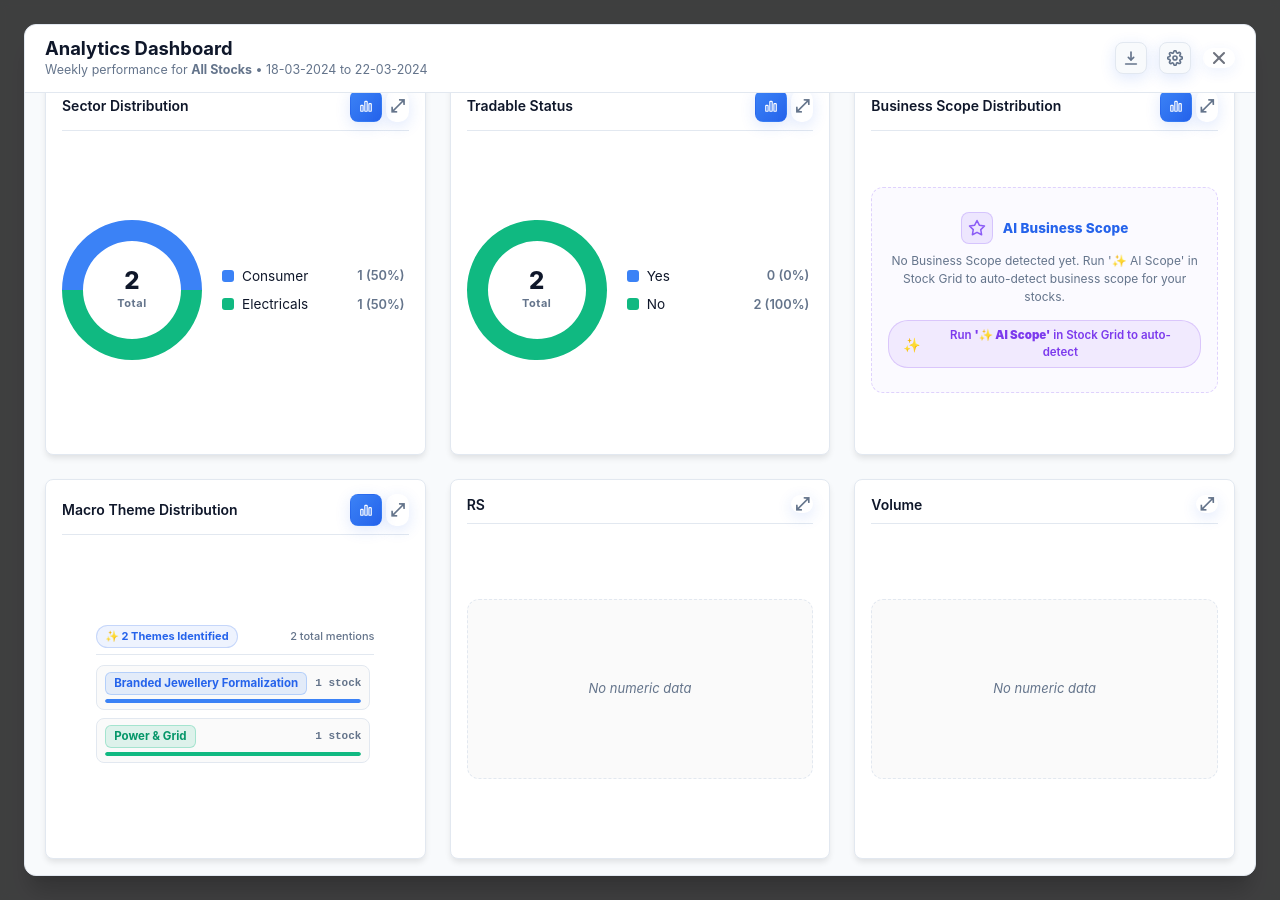
Test case: AnalyticsDashboard › supports searching by stock name and filtering by Roles in expanded view
(page scrolled)
// Expand Macro Theme Distribution
Click the button with class "expand-btn" next to "Macro Theme Distribution".
click(398, 510)  # box [386,494,409,526]
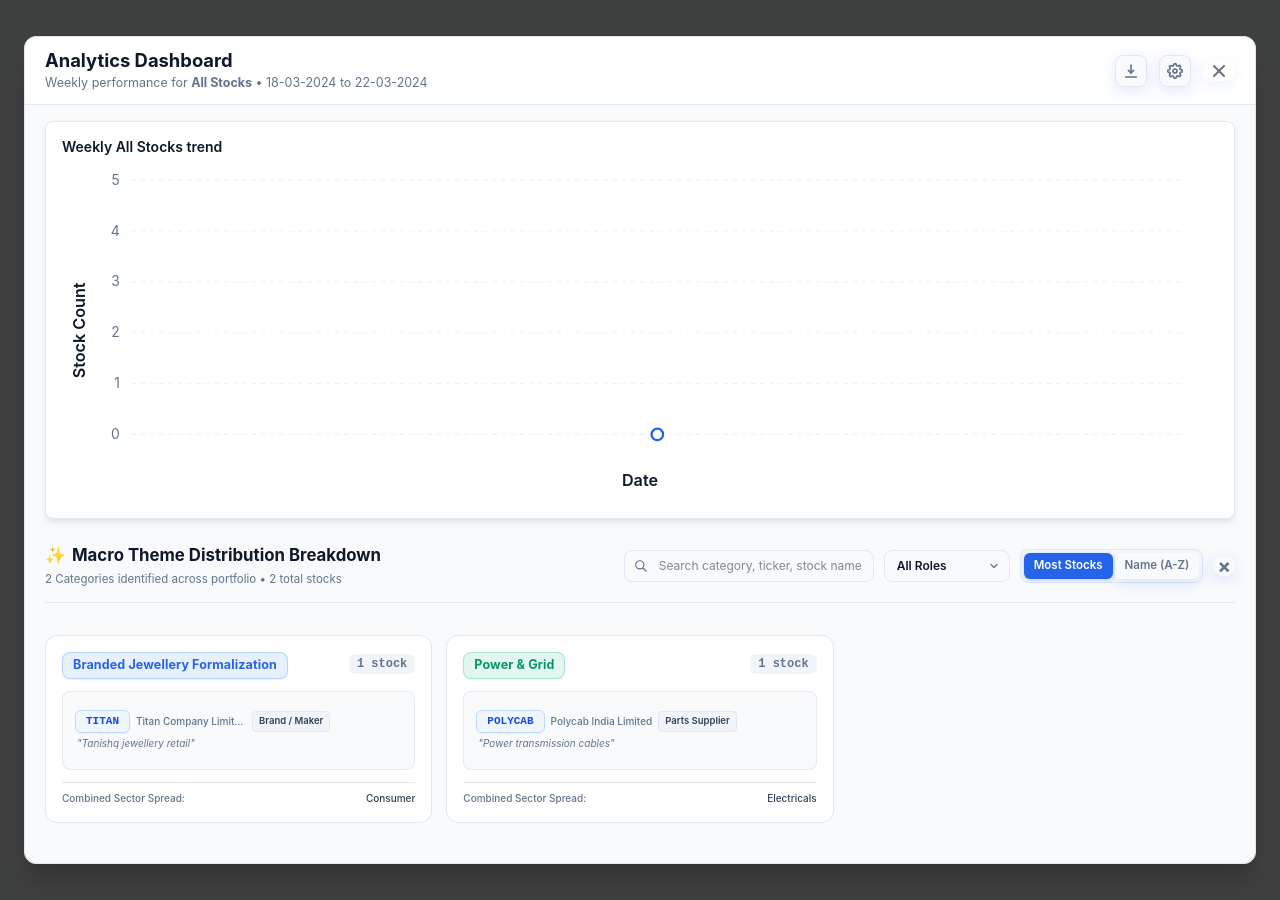
expect the field with placeholder "Search category, ticker, stock name..." is shown: met
expect the text "Titan Company Limited" is shown: met, box [136,714,246,729]
expect the text "Polycab India Limited" is shown: met, box [550,714,652,729]
// Test Search by company name "Titan Company"
Type "Titan Company" into the field with placeholder "Search category, ticker, stock name...".
click(749, 566); type("Titan Company")  # box [624,550,874,582]
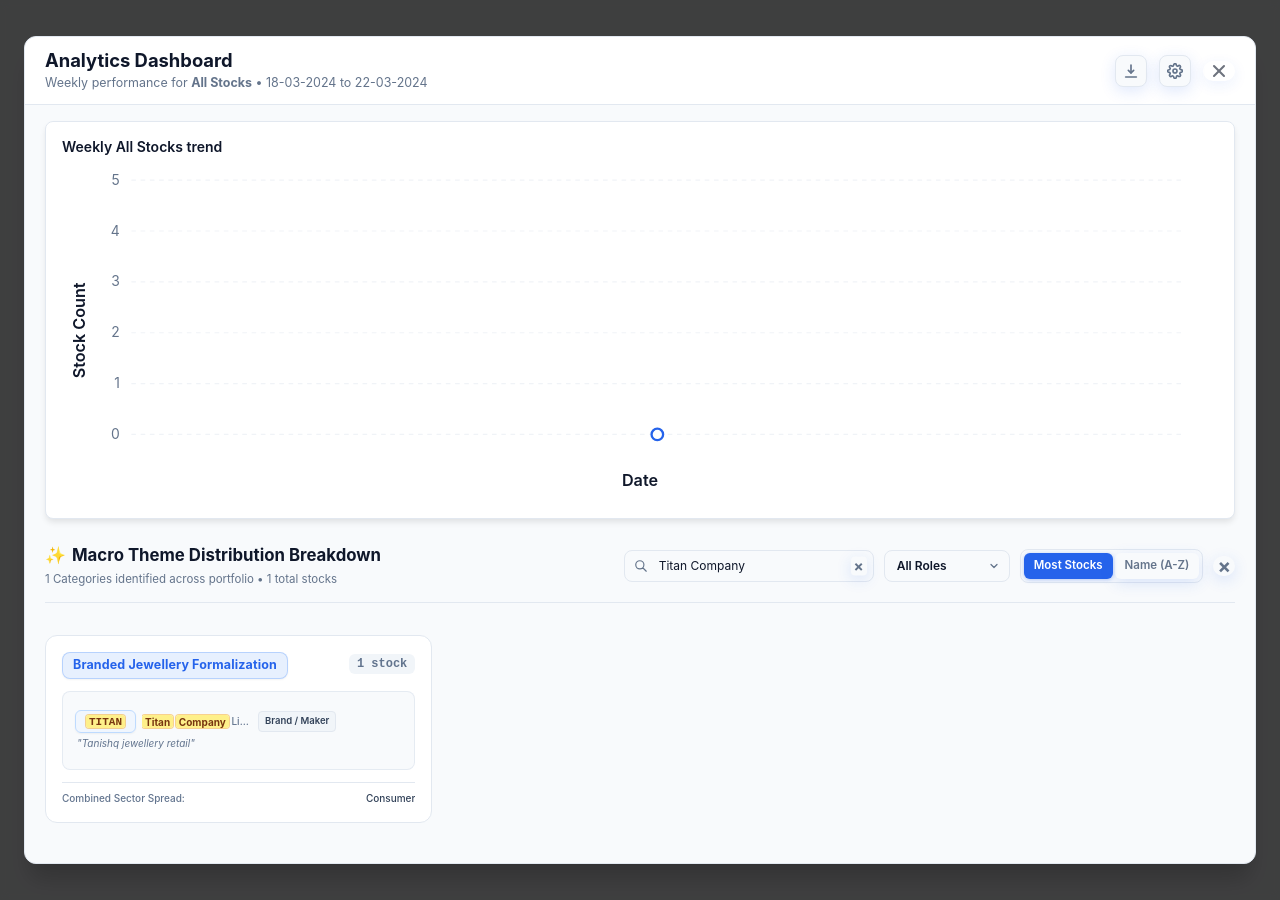
expect the element with class "ai-scope-exp-body" shows "TITAN": met, box [89,715,122,727]
expect the text with class "ai-scope-exp-body" no longer shows "POLYCAB": met
// Clear search
Clear the field with placeholder "Search category, ticker, stock name..." at (749,566), box [624,550,874,582]
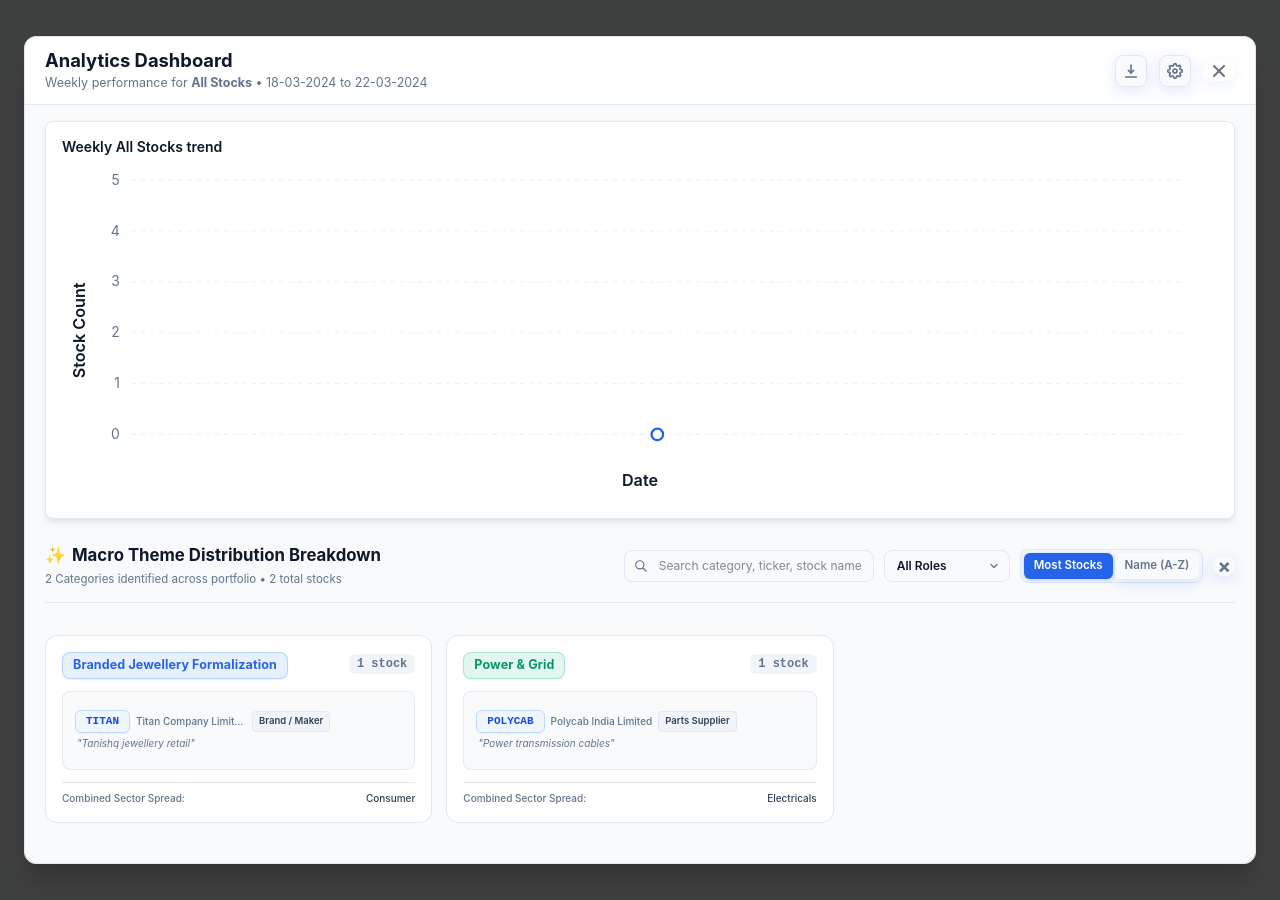
expect the dropdown named "Filter by Value Chain Role" is shown: met
expect the element with class "ai-scope-exp-body" shows "POLYCAB": met, box [487,715,534,727]
// Filter to "Parts Supplier"
Select "Parts Supplier" in the dropdown named "Filter by Value Chain Role" at (947,566), box [884,550,1010,582]
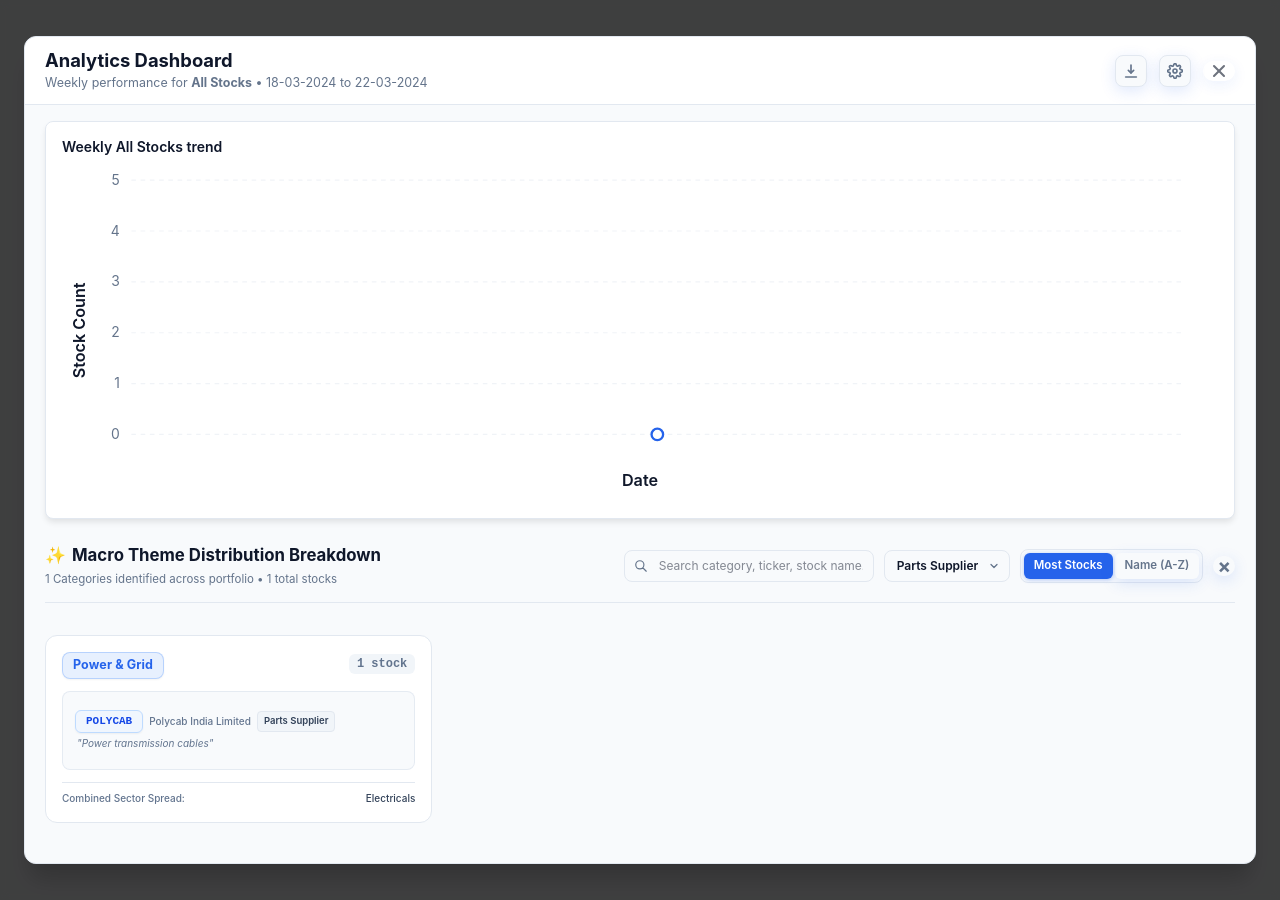
expect the element with class "ai-scope-exp-body" shows "POLYCAB": met, box [86,715,132,727]
expect the text with class "ai-scope-exp-body" no longer shows "TITAN": met
